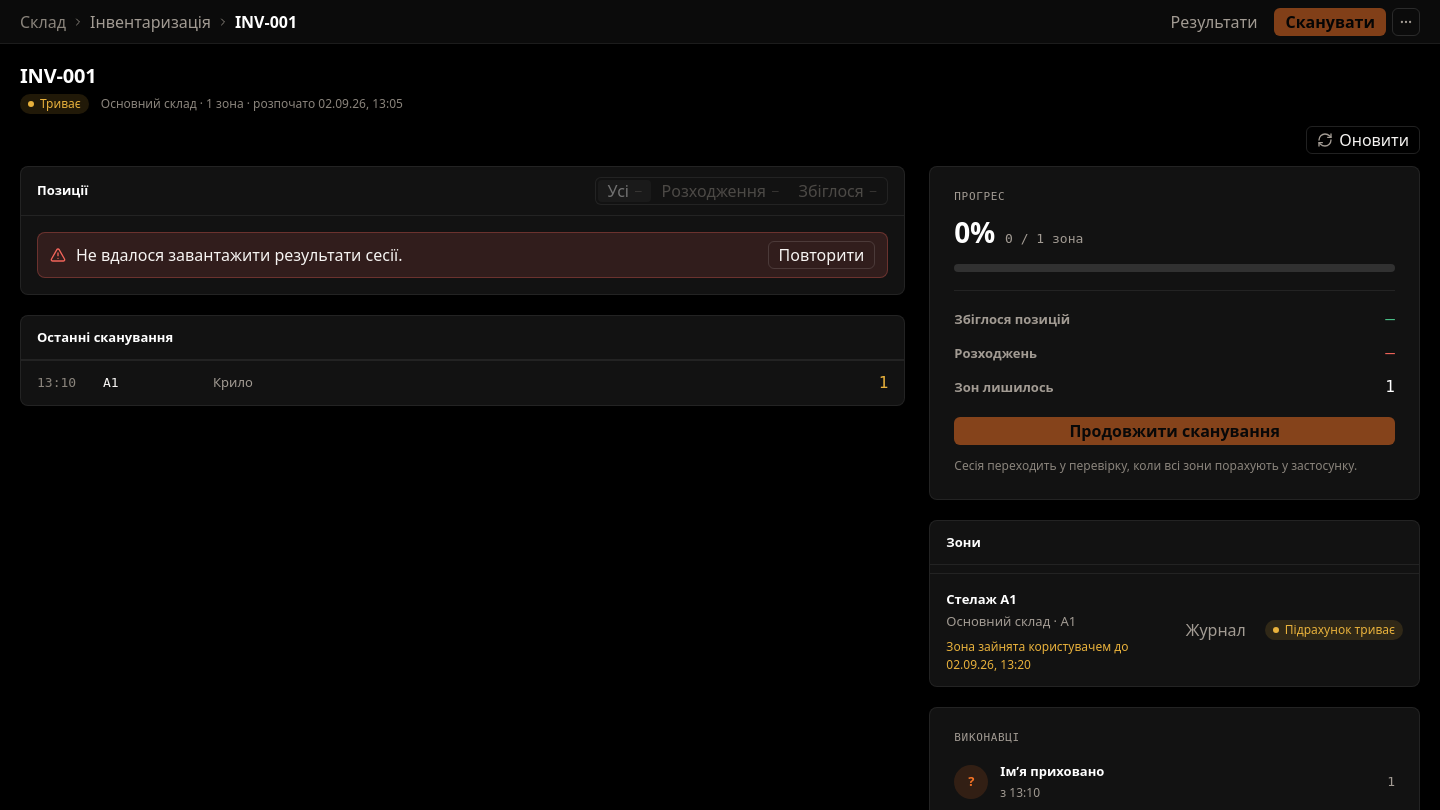
Scenario: shows and retries session result failures instead of saying counting has not started
The width and height of the screenshot is (1440, 810).
Expected: the text "Не вдалося завантажити результати сесії." is shown, [76,244,402,266]
What coordinates should you click on to do the following:
click the button "Повторити"
I would click on:
 (822, 255)
Its box is [768,241,875,269].
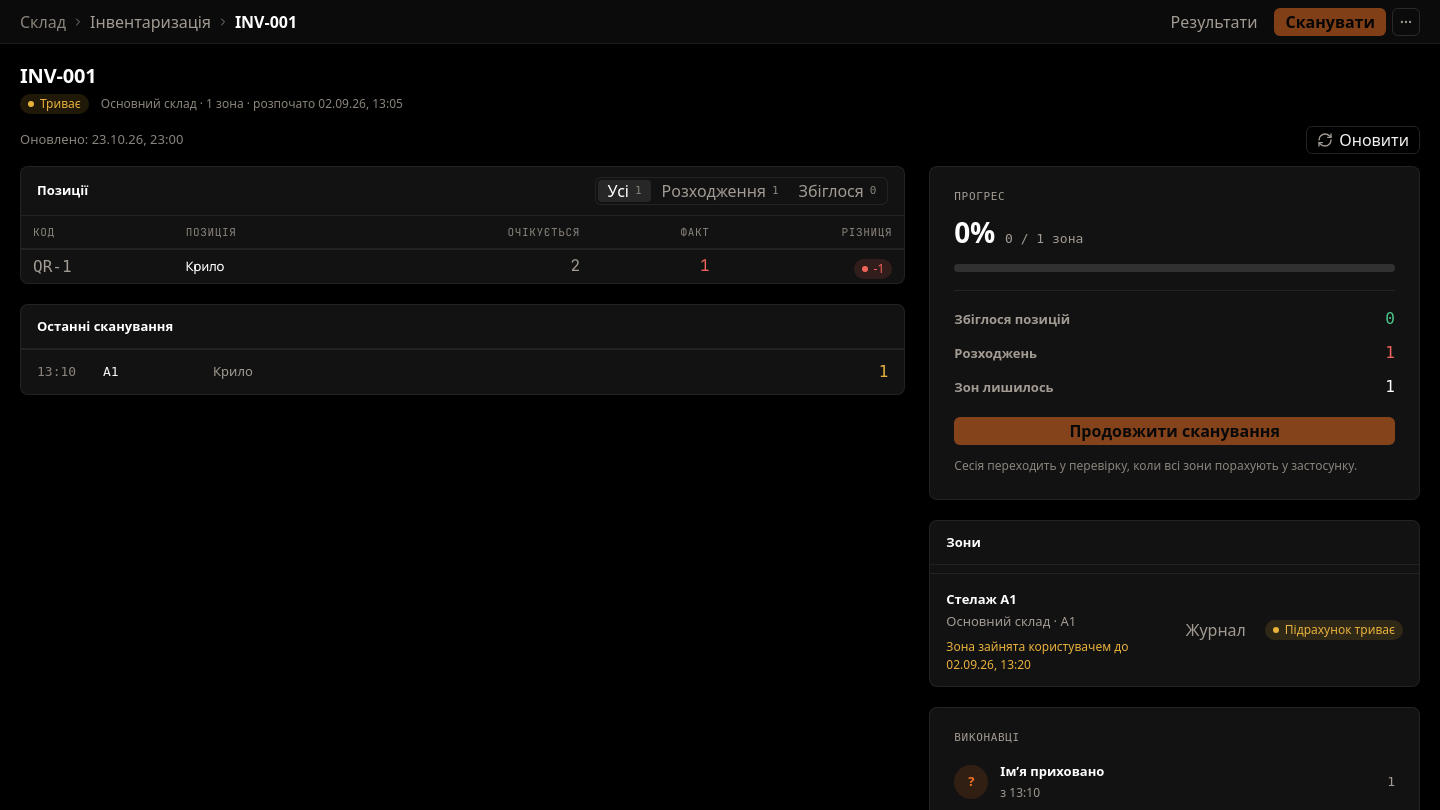
Now the text "Крило" next to "QR-1" is shown, box [186,256,224,274]
Now the text "Не вдалося завантажити результати сесії." is gone
